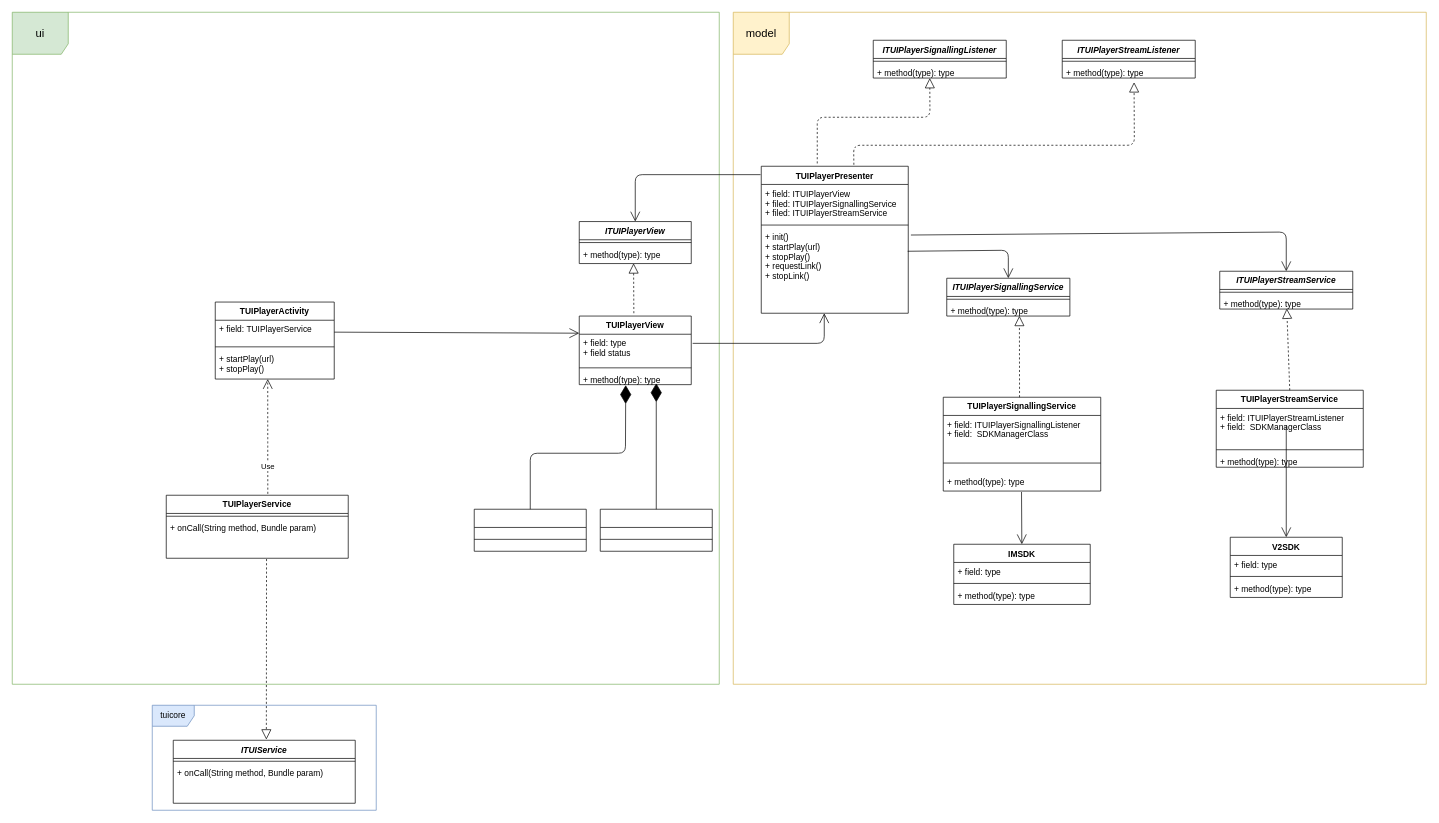
Some shapes in this 1439 by 823 pixel diagram are drawn without their labels. Here are the shapes that lost their labels. From the top down, the centre of each, then its label:
At pixel 530 530: "TXVideoViews".
At pixel 656 530: "FunctionWidget".
